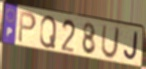2: (59, 18, 78, 54)
8: (82, 22, 97, 57)
J: (122, 31, 139, 63)
P: (17, 10, 38, 46)
Q: (38, 15, 58, 50)
U: (100, 25, 121, 61)
